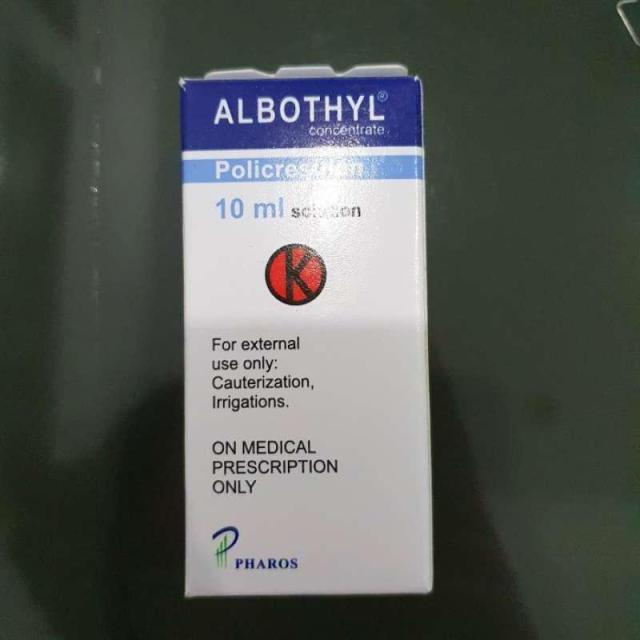drug-name: (205, 86, 389, 128)
